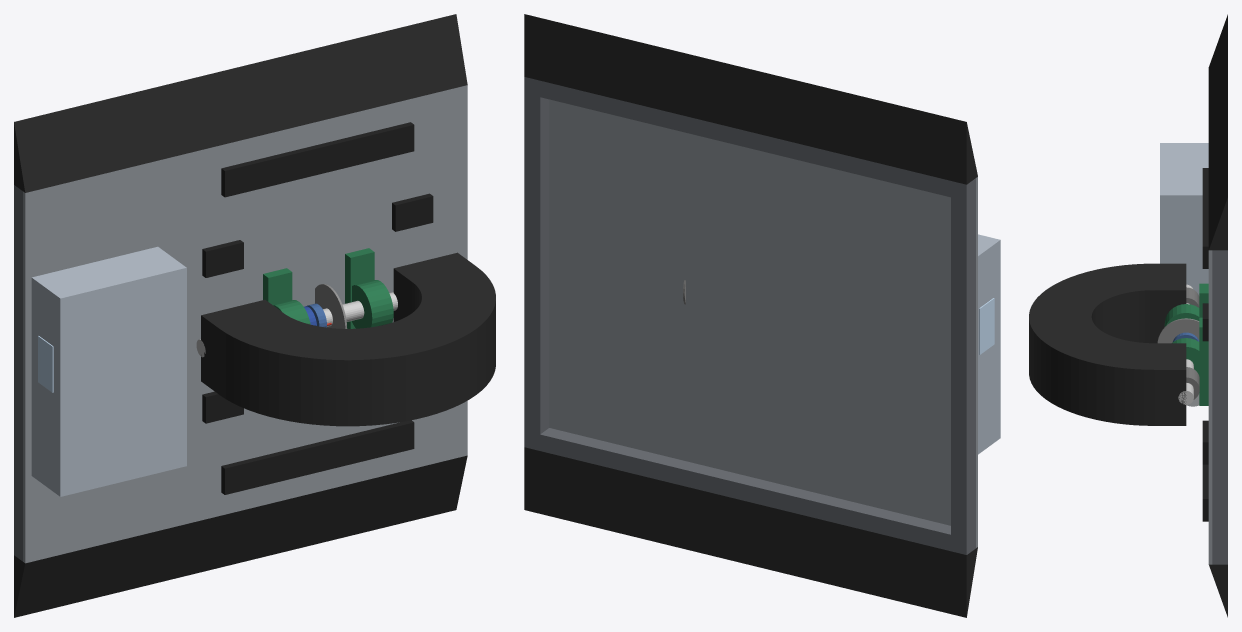
Rendered from PARKFNB_V2_Assembly_3D_INTERNALS_covers_hidden.obj.
3 renders of one model, left to right at view 1: azimuth 30°, elevation 25°; view 2: azimuth 150°, elevation 25°; view 3: azimuth 270°, elevation 25°, orthographic. The views are drawn at different scales.
Visible parts, largest first — view 1: deck, rubber_ramp, elec_box, arch_tyre, rest_block, bearing_ucp205, frame, sprocket_big, rf_window, shaft; view 2: deck, rubber_ramp, frame, elec_box, rf_window; view 3: arch_tyre, elec_box, frame, rubber_ramp, bearing_ucp205, rest_block, deck, sprocket_big, arch_bracket, shaft.
Part boxes in pixels (x1,y1,x2,y2): deck: (23,85,467,563); rubber_ramp: (14,14,467,617); elec_box: (31,246,186,496); arch_tyre: (201,252,495,426); rest_block: (202,122,433,494); bearing_ucp205: (263,248,393,328); frame: (14,185,22,561); sprocket_big: (315,284,347,328); rf_window: (38,336,53,392); shaft: (196,292,397,357); deck: (549,99,977,547); rubber_ramp: (524,14,977,617); frame: (524,77,975,554); elec_box: (978,234,1000,454); rf_window: (979,298,994,354); arch_tyre: (1029,263,1186,425); elec_box: (1160,143,1208,295); frame: (1212,250,1227,564); rubber_ramp: (1208,14,1227,617); bearing_ucp205: (1164,283,1208,405); rest_block: (1202,168,1208,521); deck: (1208,250,1212,564); sprocket_big: (1157,318,1199,343); arch_bracket: (1186,287,1199,399); shaft: (1178,284,1193,404).
Bounding box in the file's own units: 700 × 750 × 321.
